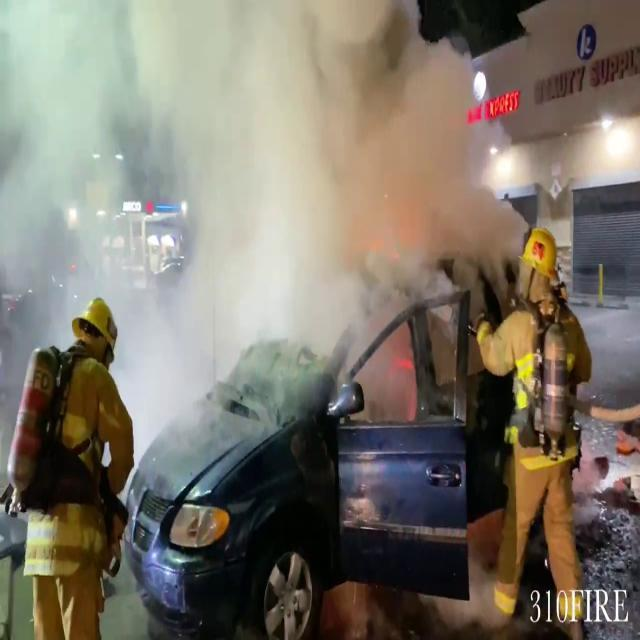Smoke: (1, 0, 577, 448)
